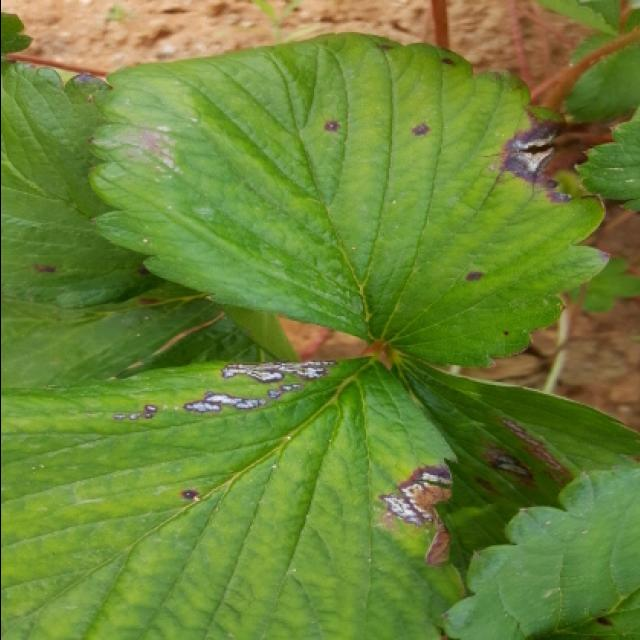Leaf Spot: (88, 32, 616, 368), (2, 353, 466, 638), (2, 61, 302, 386), (390, 347, 640, 638)
